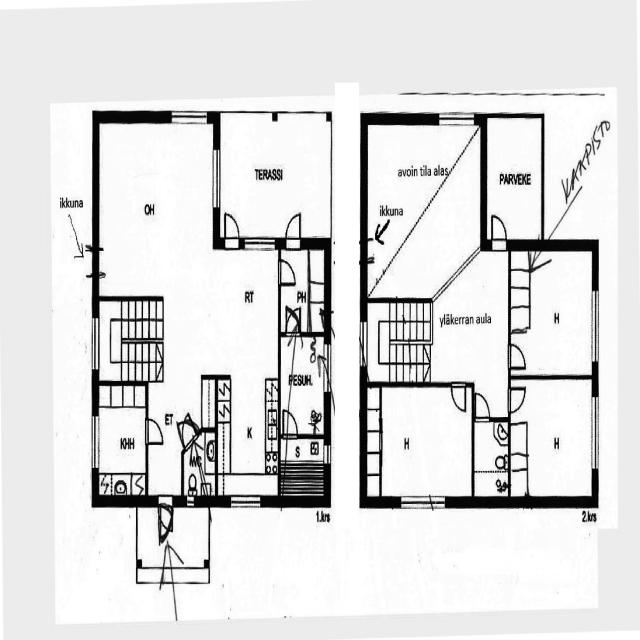door: (219, 208, 243, 250), (489, 210, 509, 251), (143, 414, 165, 451), (448, 382, 471, 415), (506, 341, 529, 373), (506, 382, 528, 414), (284, 212, 303, 248), (473, 388, 492, 423), (277, 257, 296, 288)
window: (394, 489, 451, 516), (588, 390, 604, 480), (588, 285, 602, 370), (209, 142, 224, 215), (224, 491, 266, 516), (166, 105, 210, 128), (238, 232, 280, 254), (89, 410, 102, 476), (89, 313, 102, 374), (358, 316, 370, 371), (436, 110, 477, 126), (323, 342, 334, 396), (322, 441, 333, 472)
zone: (365, 118, 484, 300), (95, 119, 214, 297), (364, 383, 474, 504), (507, 246, 596, 378), (510, 377, 597, 501), (150, 375, 220, 498), (217, 370, 280, 499), (485, 113, 541, 244), (94, 385, 148, 501), (280, 335, 328, 437), (279, 246, 328, 336), (473, 418, 509, 500), (281, 435, 327, 498)
